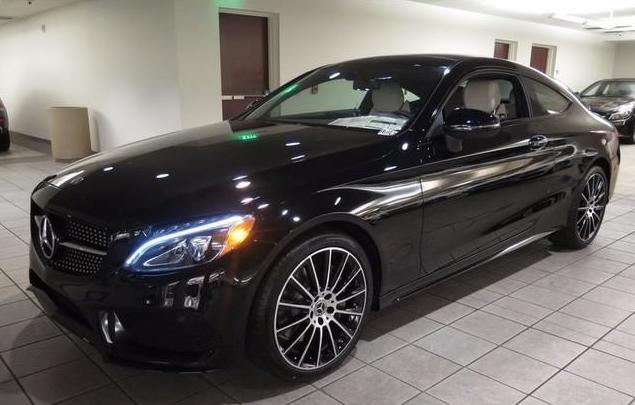C300Coupe: (24, 45, 621, 378)
